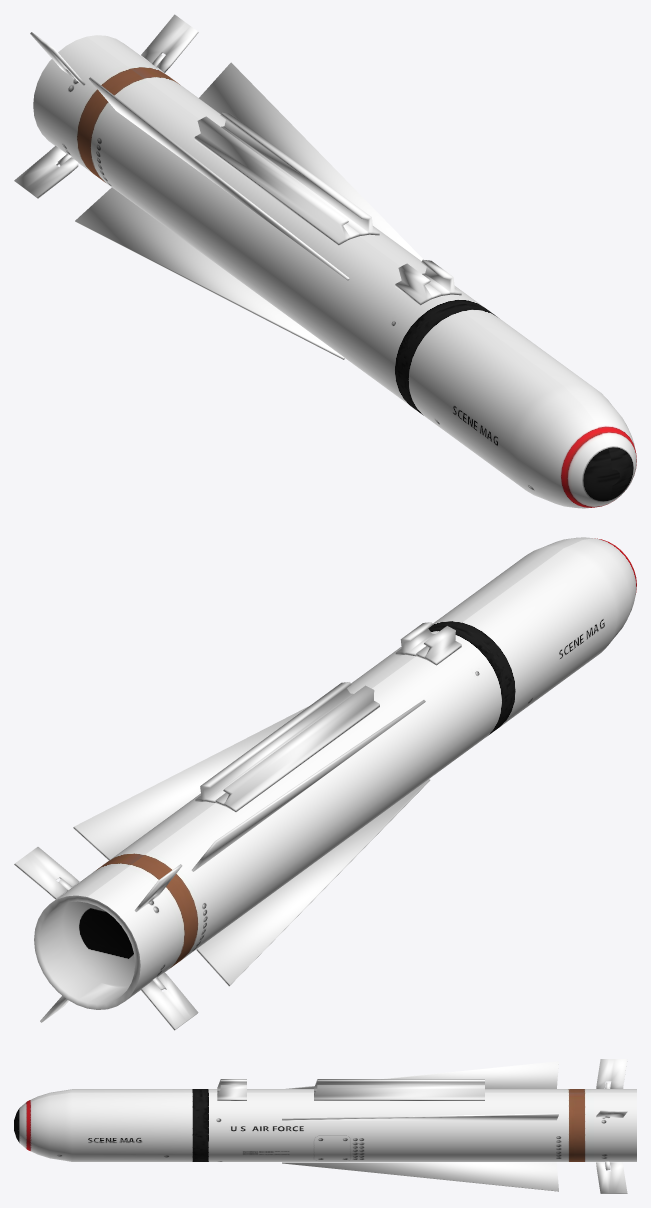
The model's file is missile-agm-65.glb.
The picture shows the model from 3 angles, top to bottom: view 1: azimuth 30°, elevation 25°; view 2: azimuth 150°, elevation 25°; view 3: azimuth 270°, elevation 25°; orthographic projection. The views are drawn at different scales.
Parts seen in each view (by area): view 1: Cylinder_003_None__fff_png_png_001_0; view 2: Cylinder_003_None__fff_png_png_001_0; view 3: Cylinder_003_None__fff_png_png_001_0.
Part boxes in pixels (left/top/right/bottom): Cylinder_003_None__fff_png_png_001_0: left=14, top=14, right=636, bottom=508; Cylinder_003_None__fff_png_png_001_0: left=14, top=537, right=636, bottom=1030; Cylinder_003_None__fff_png_png_001_0: left=14, top=1059, right=636, bottom=1193.
Bounding box in the file's own units: 0.4414 × 0.4454 × 2.48.
Materials: 1 (1 with a texture image).
